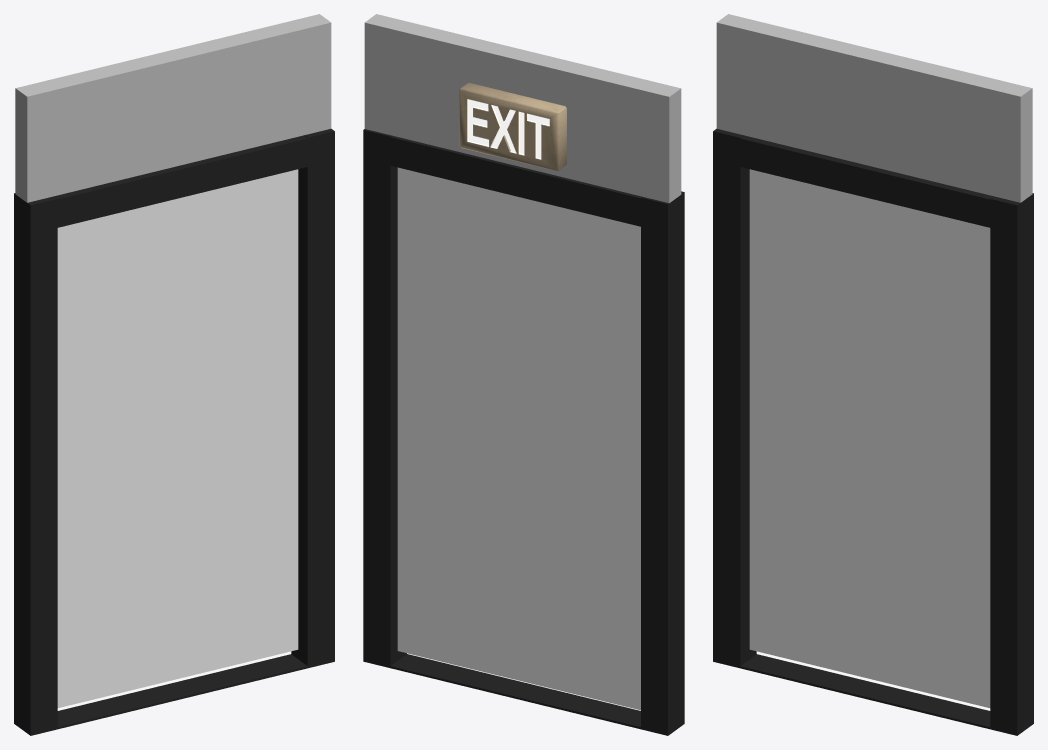
Rendered from SlidingDoor.fbx.
3 renders of one model, left to right at view 1: azimuth 30°, elevation 25°; view 2: azimuth 150°, elevation 25°; view 3: azimuth 330°, elevation 25°, orthographic.
Parts seen in each view (by area): view 1: BlockingGate, TopGate, frameL, frameR, frametop, frameBase; view 2: BlockingGate, TopGate, frameL, frameR, frametop, SM_Exit, frameBase; view 3: BlockingGate, TopGate, frameR, frameL, frametop, frameBase.
Part boxes in pixels (left/top/right/bottom): BlockingGate: left=57, top=169, right=298, bottom=707; TopGate: left=15, top=14, right=331, bottom=202; frameL: left=14, top=193, right=57, bottom=735; frameR: left=291, top=128, right=334, bottom=668; frametop: left=54, top=135, right=307, bottom=227; frameBase: left=57, top=654, right=307, bottom=729; BlockingGate: left=397, top=167, right=640, bottom=710; TopGate: left=364, top=14, right=681, bottom=203; frameL: left=641, top=191, right=684, bottom=735; frameR: left=363, top=129, right=406, bottom=667; frametop: left=390, top=135, right=641, bottom=226; SM_Exit: left=459, top=82, right=566, bottom=171; frameBase: left=390, top=654, right=640, bottom=729; BlockingGate: left=749, top=169, right=990, bottom=707; TopGate: left=716, top=14, right=1032, bottom=202; frameR: left=990, top=193, right=1033, bottom=735; frameL: left=713, top=128, right=756, bottom=668; frametop: left=740, top=135, right=993, bottom=227; frameBase: left=740, top=654, right=990, bottom=729.
Bounding box in the file's own units: 150 × 300 × 20.25.
